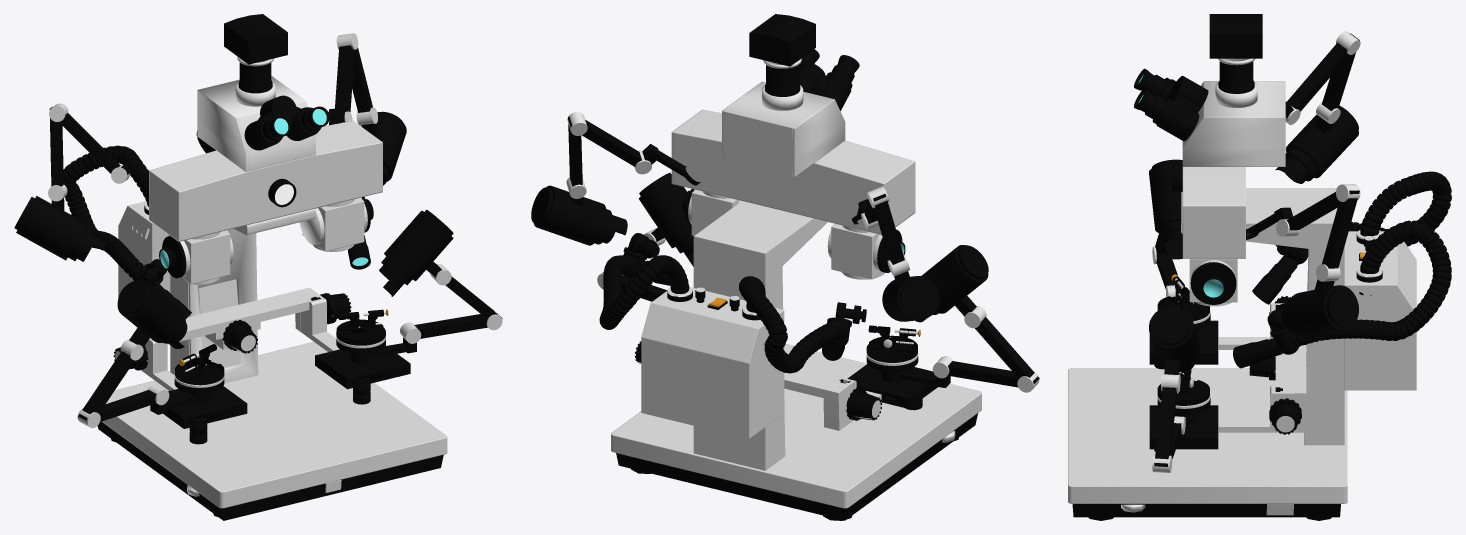
File: bulletmicroscope.fbx
The picture shows the model from 3 angles, left to right: view 1: azimuth 30°, elevation 25°; view 2: azimuth 150°, elevation 25°; view 3: azimuth 270°, elevation 25°; orthographic projection. The views are drawn at different scales.
Visible parts, largest first — view 1: Base_new.005, Optical_bridge, microscope_v2.003, microscope_v2.012, Base_new.004, microscope_v2.018, Course_adjustment_knob.005, microscope_v2.016, microscope_v2.015, fiberops_light_cable.001, microscope_v2.019, Magnification_R (+23 smaller); view 2: Base_new.005, microscope_v2.005, Optical_bridge, microscope_v2.003, microscope_v2.012, Base_new.004, microscope_v2.018, microscope_v2.014, fiberops_light_cable.001, fiberops_light_cable, microscope_v2.020, Magnification_R (+16 smaller); view 3: Base_new.005, microscope_v2.003, microscope_v2.005, microscope_v2.012, Optical_bridge, fiberops_light_cable, microscope_v2.020, Base_new.004, Eye_piece, microscope_v2.021, microscope_v2.014, microscope_v2.015 (+20 smaller).
Boxes of the visible parts, <box> form: Base_new.005: <box>102,342,447,508</box>; Optical_bridge: <box>149,120,382,241</box>; microscope_v2.003: <box>170,208,315,383</box>; microscope_v2.012: <box>197,76,315,171</box>; Base_new.004: <box>97,421,443,520</box>; microscope_v2.018: <box>77,328,209,428</box>; Course_adjustment_knob.005: <box>141,287,323,376</box>; microscope_v2.016: <box>379,209,453,296</box>; microscope_v2.015: <box>14,196,106,261</box>; fiberops_light_cable.001: <box>63,145,148,280</box>; microscope_v2.019: <box>350,261,502,361</box>; Magnification_R: <box>159,230,233,284</box>; Base_new.005: <box>611,344,981,508</box>; microscope_v2.005: <box>641,287,784,438</box>; Optical_bridge: <box>671,109,915,234</box>; microscope_v2.003: <box>693,201,827,470</box>; microscope_v2.012: <box>722,81,845,176</box>; Base_new.004: <box>616,413,977,520</box>; microscope_v2.018: <box>881,296,1039,392</box>; microscope_v2.014: <box>531,185,627,245</box>; fiberops_light_cable.001: <box>739,276,848,373</box>; fiberops_light_cable: <box>599,255,689,329</box>; microscope_v2.020: <box>566,112,700,205</box>; Magnification_R: <box>827,223,905,279</box>; Base_new.005: <box>1068,368,1347,503</box>; microscope_v2.003: <box>1181,188,1344,445</box>; microscope_v2.005: <box>1344,231,1416,390</box>; microscope_v2.012: <box>1182,81,1285,166</box>; Optical_bridge: <box>1182,167,1245,258</box>; fiberops_light_cable: <box>1291,220,1451,346</box>; microscope_v2.020: <box>1246,184,1360,289</box>; Base_new.004: <box>1072,504,1340,520</box>; Eye_piece: <box>1134,68,1208,141</box>; microscope_v2.021: <box>1285,31,1360,134</box>; microscope_v2.014: <box>1275,285,1358,337</box>; microscope_v2.015: <box>1275,105,1358,183</box>.
Bounding box in the file's own units: 2257 × 2145 × 1680.
